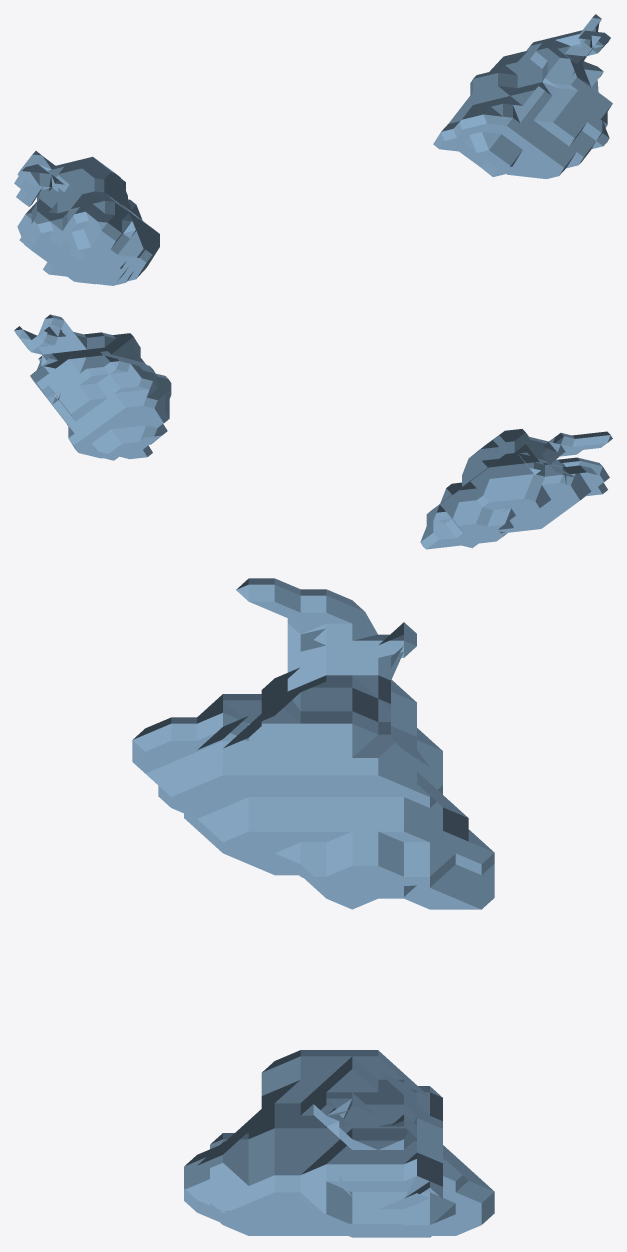
File: region_0127_R__rostrolateral_nucleus_.glb
3 views of the same model, one above another, from view 1: azimuth 30°, elevation 25°; view 2: azimuth 150°, elevation 25°; view 3: azimuth 270°, elevation 25° (orthographic). The views are drawn at different scales.
Parts seen in each view (by area): view 1: world; view 2: world; view 3: world.
Boxes of the visible parts, x1=… form: world: x1=14, y1=14, x2=612, y2=285; world: x1=14, y1=314, x2=612, y2=549; world: x1=132, y1=578, x2=494, y2=1237.
Bounding box in the file's own units: 0.4 × 0.072 × 0.112.
